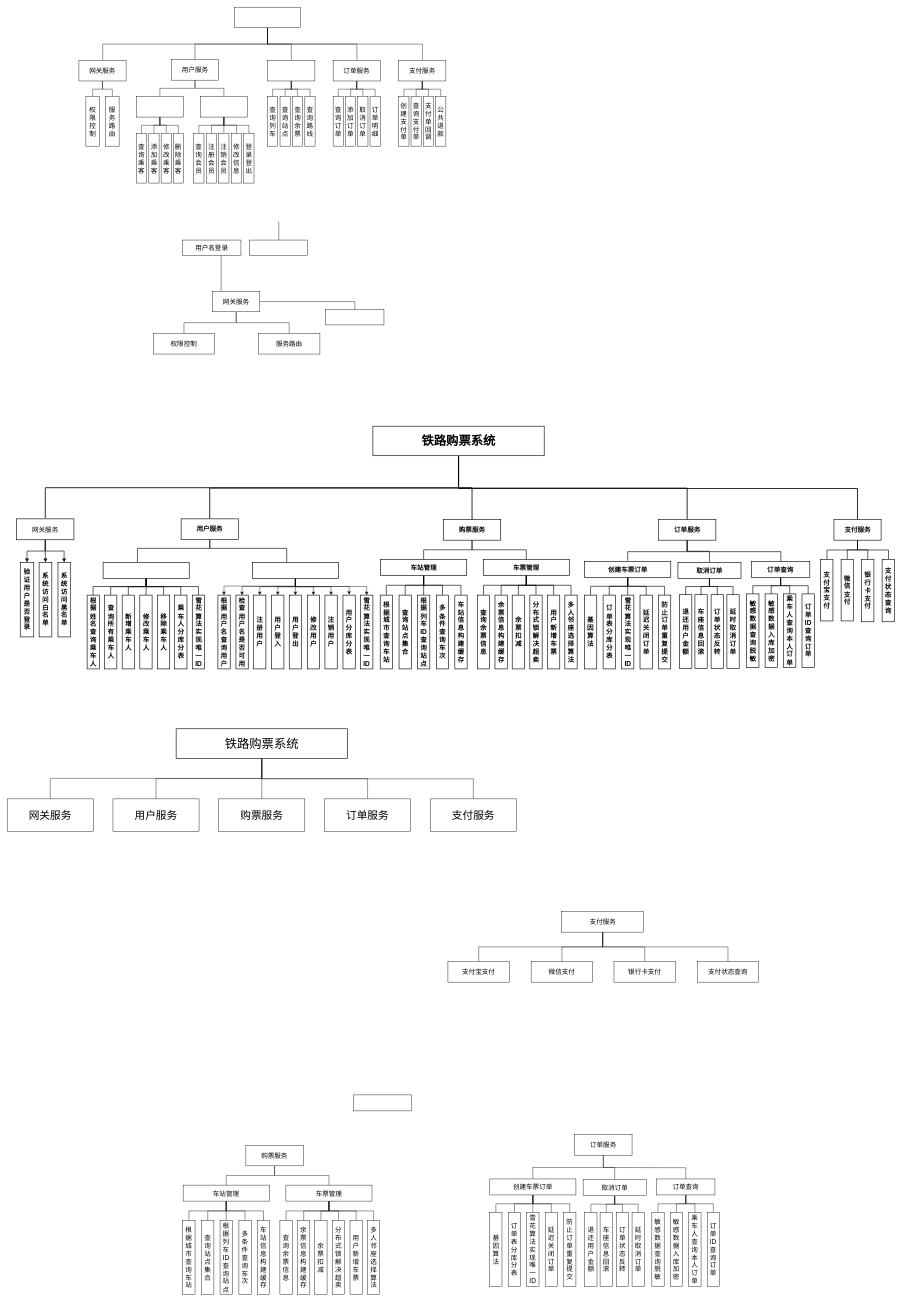
The diagram is 902 pixels wide and 1302 high, and some of its shapes have lost their labels. Here are the shapes that lost their labels. From the top down, the box of each, then its label:
(234, 7, 300, 28): 12306 购票系统
(267, 60, 315, 81): 列车服务
(136, 96, 183, 117): 乘客管理
(200, 96, 247, 117): 会员管理
(249, 240, 308, 255): 邮箱登录
(325, 309, 384, 325): 手机号登录
(103, 562, 189, 578): 乘车人管理
(252, 562, 339, 578): 用户管理
